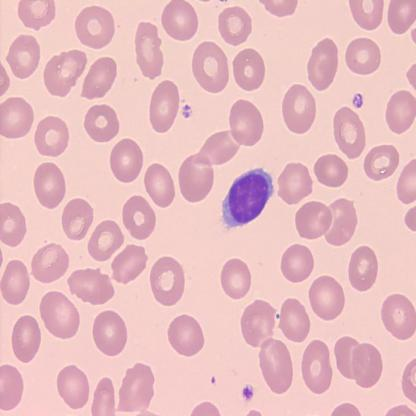Lymphocyte: (221, 165, 275, 233)
